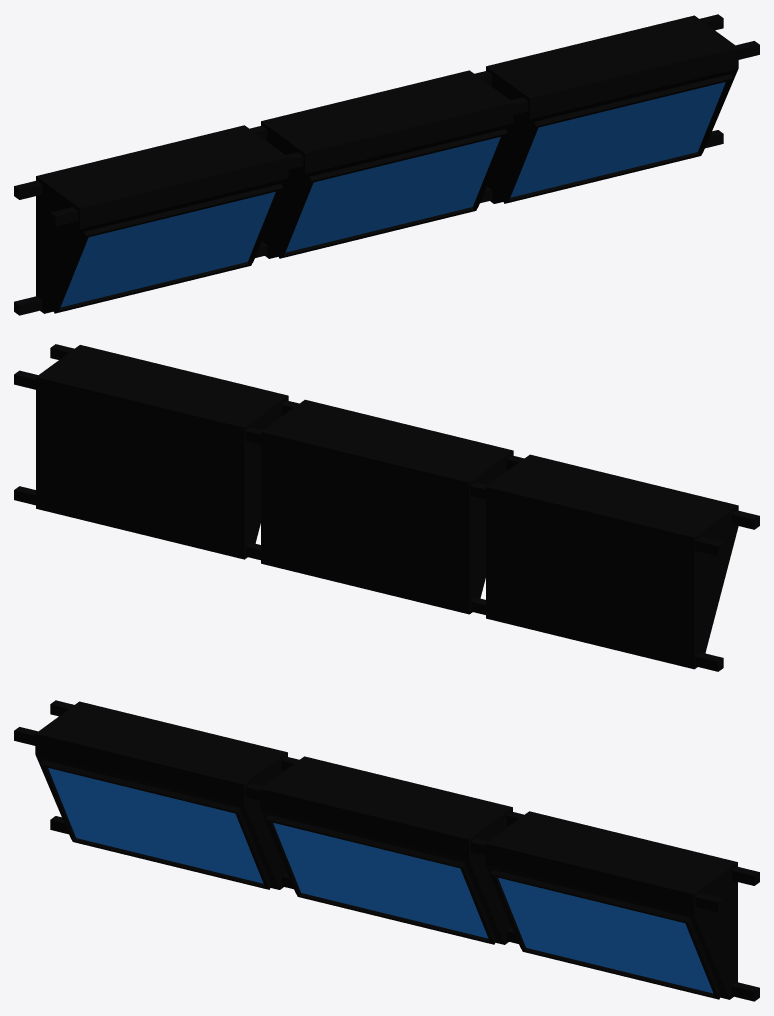
File: SM_menu.fbx
3 views of the same model, one above another, from view 1: azimuth 30°, elevation 25°; view 2: azimuth 150°, elevation 25°; view 3: azimuth 330°, elevation 25° (orthographic).
Parts seen in each view (by area): view 1: menu; view 2: menu; view 3: menu.
Boxes of the visible parts, left/top/right/bottom form: menu: left=14, top=14, right=759, bottom=315; menu: left=14, top=344, right=759, bottom=671; menu: left=14, top=700, right=759, bottom=1001.
Size of the model in its own units: 370 by 66.1 by 40.53.
